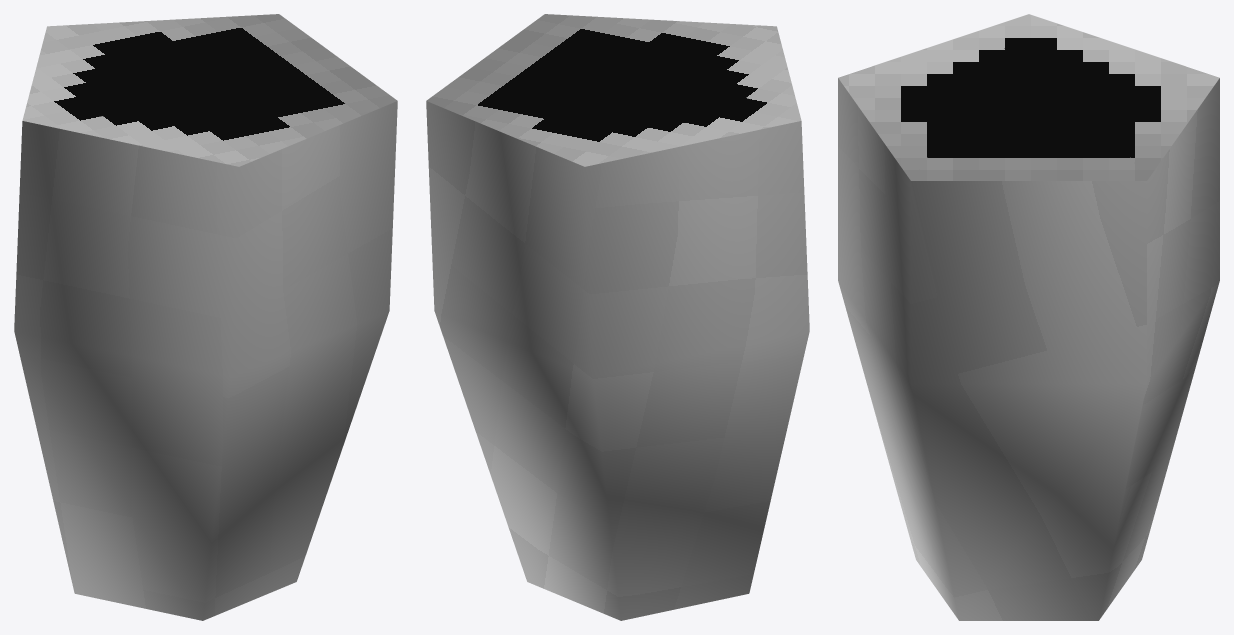
Rendered from TLOG_Socket.fbx.
3 renders of one model, left to right at view 1: azimuth 30°, elevation 25°; view 2: azimuth 150°, elevation 25°; view 3: azimuth 270°, elevation 25°, orthographic.
Visible parts, largest first — view 1: LugWrench.001; view 2: LugWrench.001; view 3: LugWrench.001.
Boxes of the visible parts, x1,y1,x2,y2 form: LugWrench.001: (14,14,397,620); LugWrench.001: (426,14,809,620); LugWrench.001: (838,14,1219,620).
Bounding box in the file's own units: 0.0303 × 0.0441 × 0.0311.
